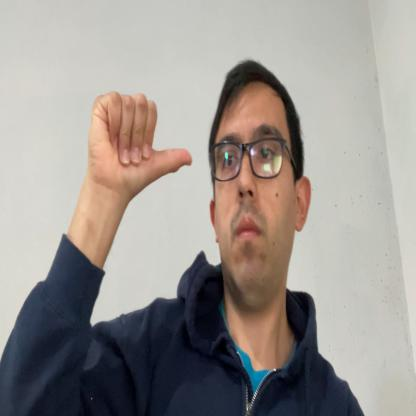A: (88, 90, 192, 197)
